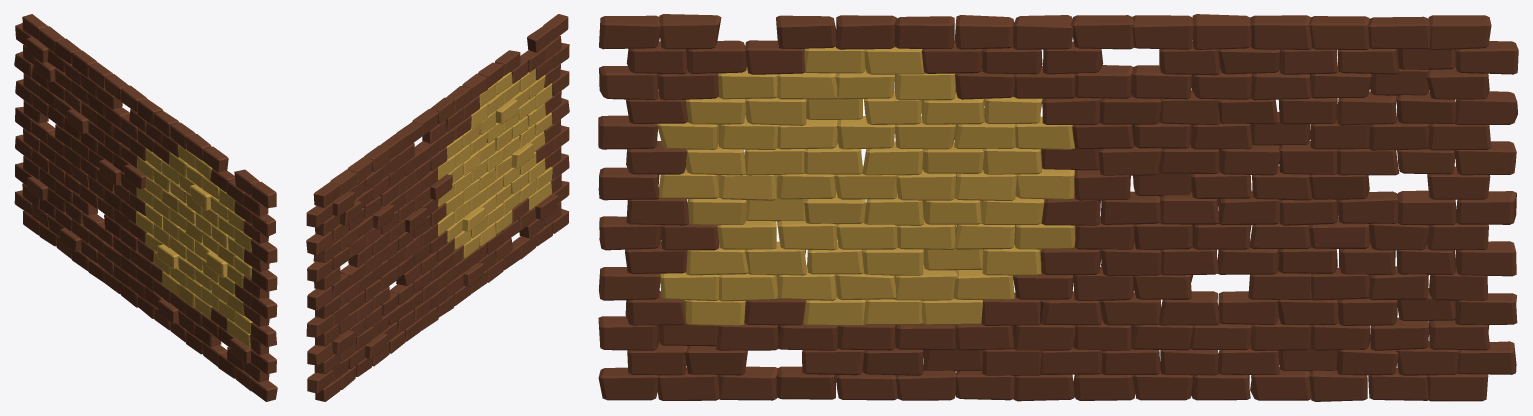
Rendered from Ana_ekran_icin_duvar.fbx.
3 renders of one model, left to right at view 1: azimuth 30°, elevation 25°; view 2: azimuth 150°, elevation 25°; view 3: azimuth 270°, elevation 25°, orthographic. The views are drawn at different scales.
Parts seen in each view (by area): view 1: Cube, Cube.002; view 2: Cube, Cube.002; view 3: Cube, Cube.002.
Boxes of the visible parts, x1=… form: Cube: x1=14, y1=14, x2=277, y2=401; Cube.002: x1=136, y1=144, x2=252, y2=347; Cube: x1=306, y1=14, x2=569, y2=401; Cube.002: x1=437, y1=68, x2=552, y2=258; Cube: x1=598, y1=14, x2=1518, y2=401; Cube.002: x1=657, y1=46, x2=1075, y2=325.
Bounding box in the file's own units: 116 × 1369 × 3010.
